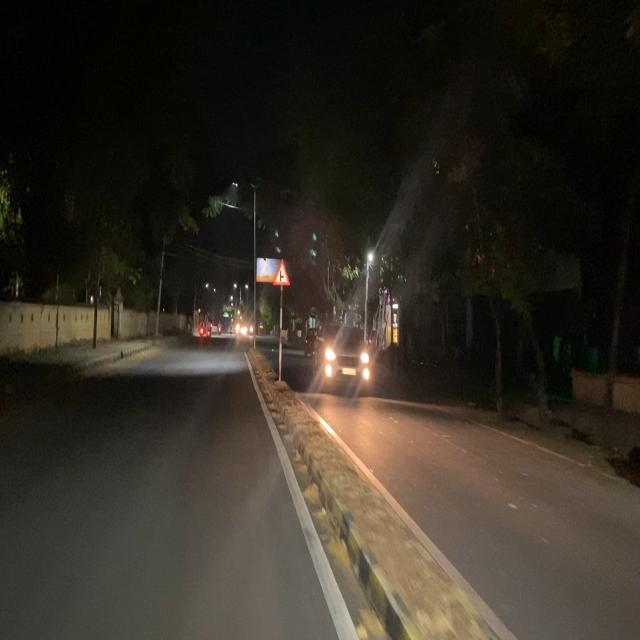bien_cam: (272, 256, 291, 289)
